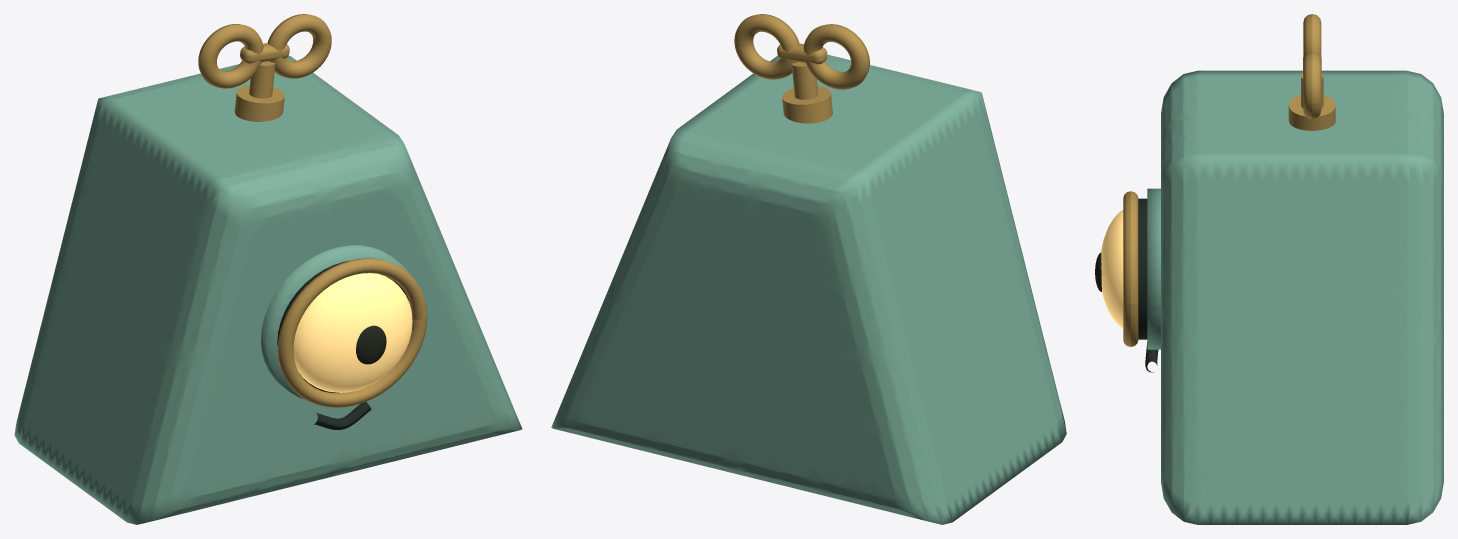
The model's file is deadeye-head-1.glb.
3 renders of one model, left to right at view 1: azimuth 30°, elevation 25°; view 2: azimuth 150°, elevation 25°; view 3: azimuth 270°, elevation 25°, orthographic. The views are drawn at different scales.
Parts seen in each view (by area): view 1: head_clay, head_hardware (×4); view 2: head_clay, head_hardware; view 3: head_clay, head_hardware (×3).
Part boxes in pixels (x1=…): head_clay: x1=14, y1=55, x2=522, y2=524; head_hardware (×4): x1=198, y1=14, x2=427, y2=429; head_clay: x1=551, y1=54, x2=1066, y2=524; head_hardware: x1=734, y1=14, x2=869, y2=123; head_clay: x1=1147, y1=70, x2=1443, y2=524; head_hardware (×3): x1=1101, y1=14, x2=1335, y2=372.
Bounding box in the file's own units: 1.36 × 1.45 × 1.08.
